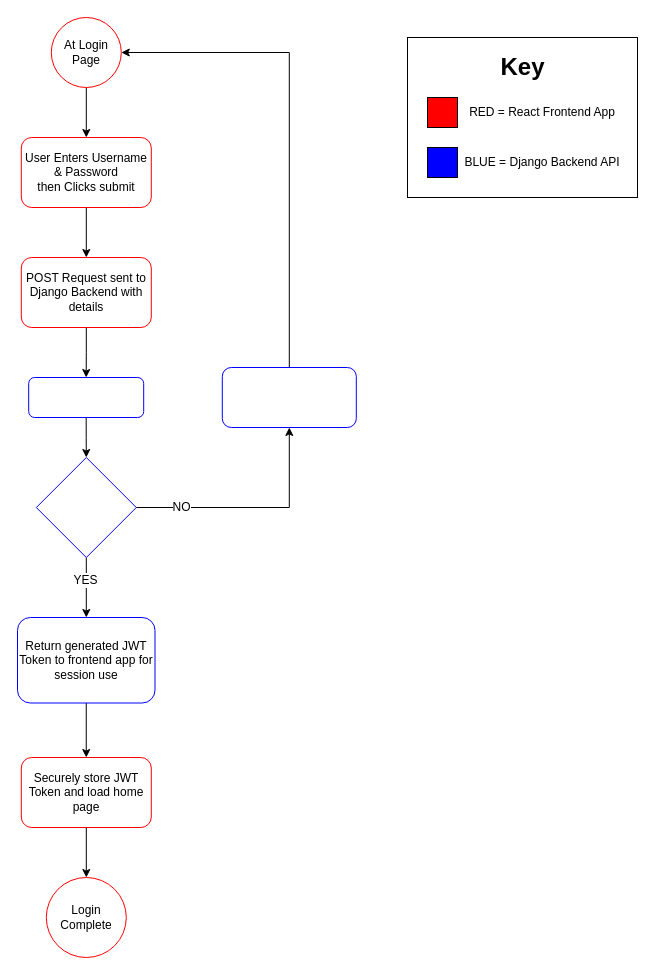
This 655x975 diagram has some shape labels left out. The box of each missing label's shape, as (x1, y1, x2, y2) in pixels:
Backend Recieves POST request: (28, 376, 144, 418)
Credentials Correct?: (35, 456, 136, 558)
Return Invalid credentials error to Frontend app: (221, 366, 356, 428)
